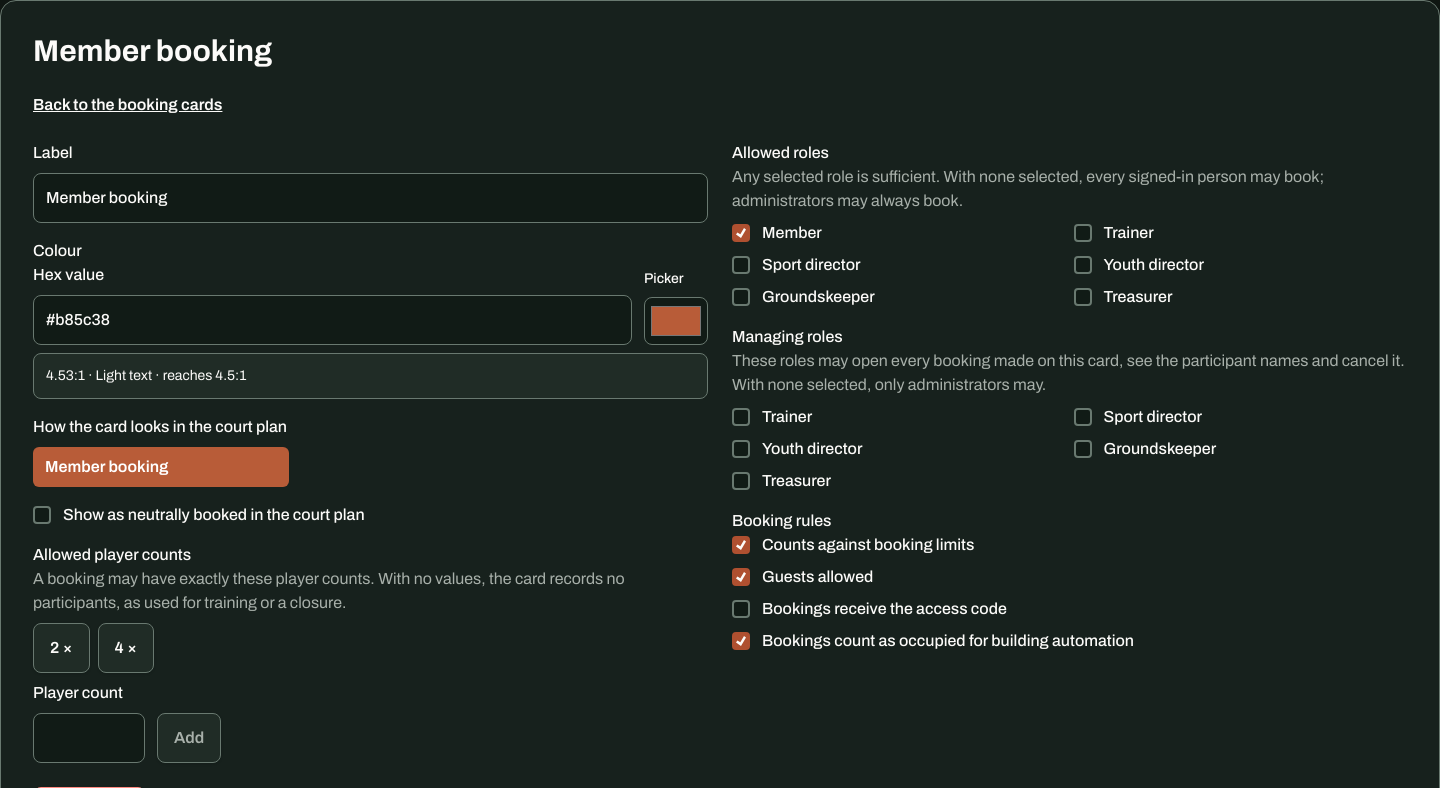
it: AdminBookingCardView › given a save is refused, when the failure is shown, then the entered values are still there
Replace the text in the field with test id "card-label" with "Training". click: (370, 198)
box: [33, 173, 708, 223]
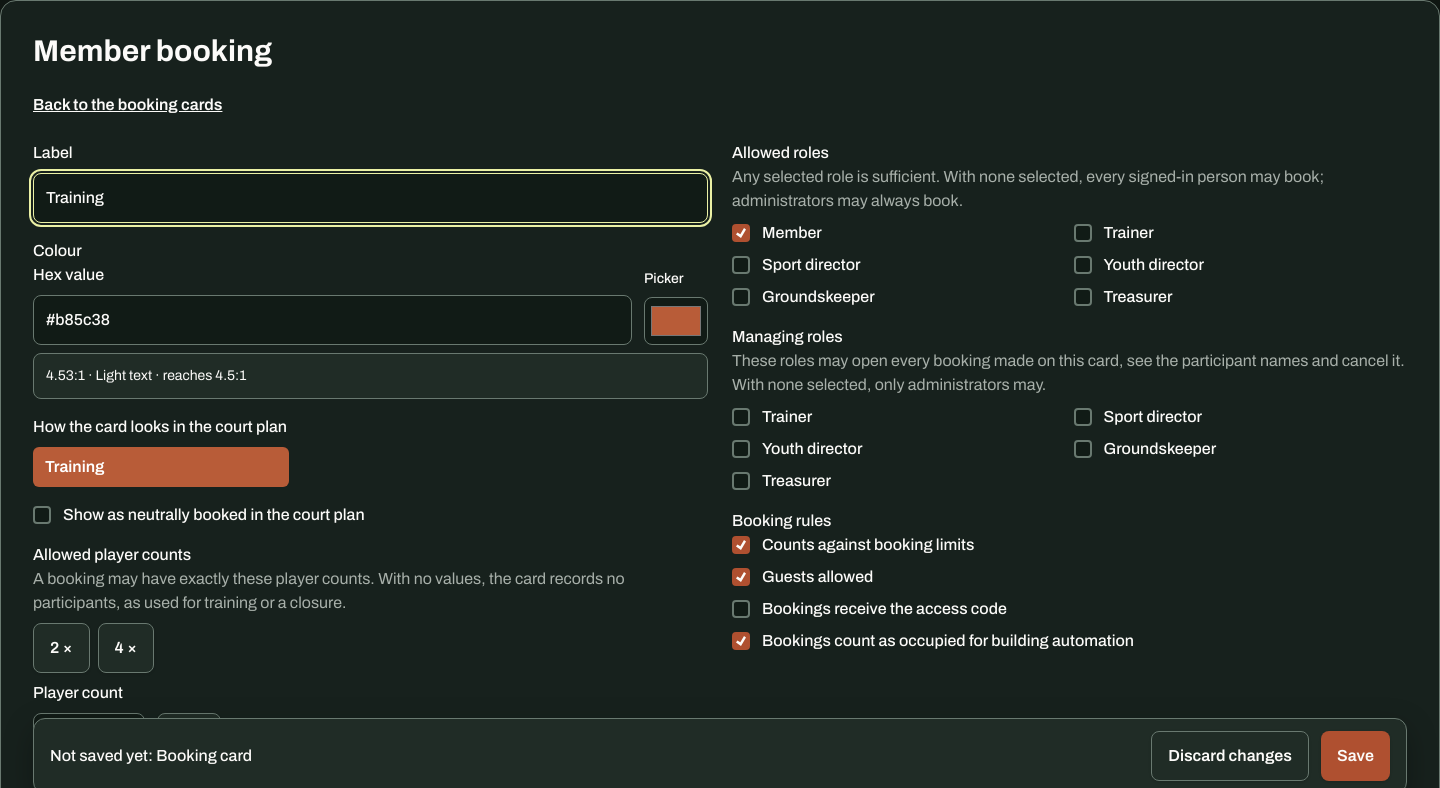
Click the button with test id "save-card". click: (1356, 756)
box: [1321, 731, 1390, 781]
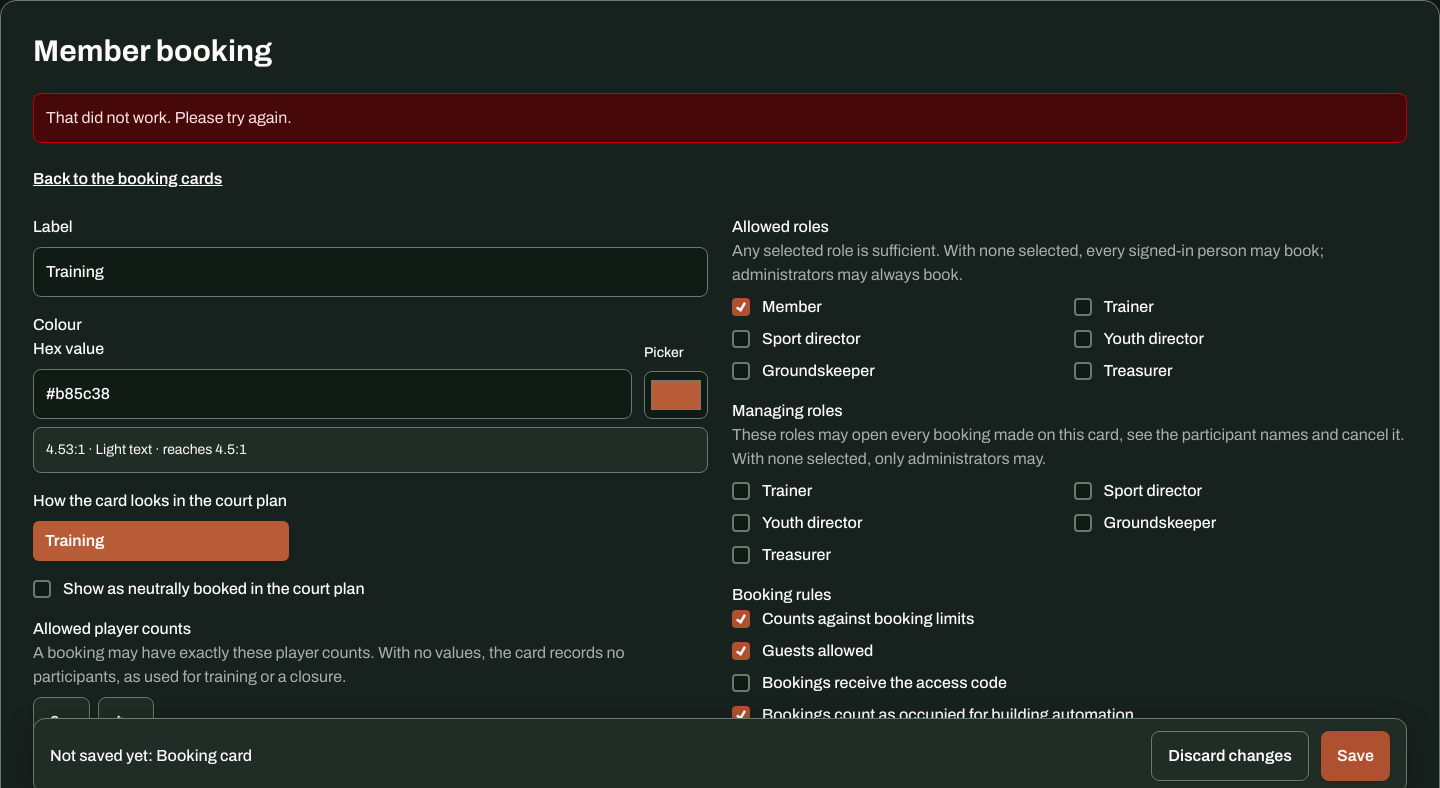
expect the message "That did not work. Please try again." is shown: met, box [33, 93, 1407, 143]
